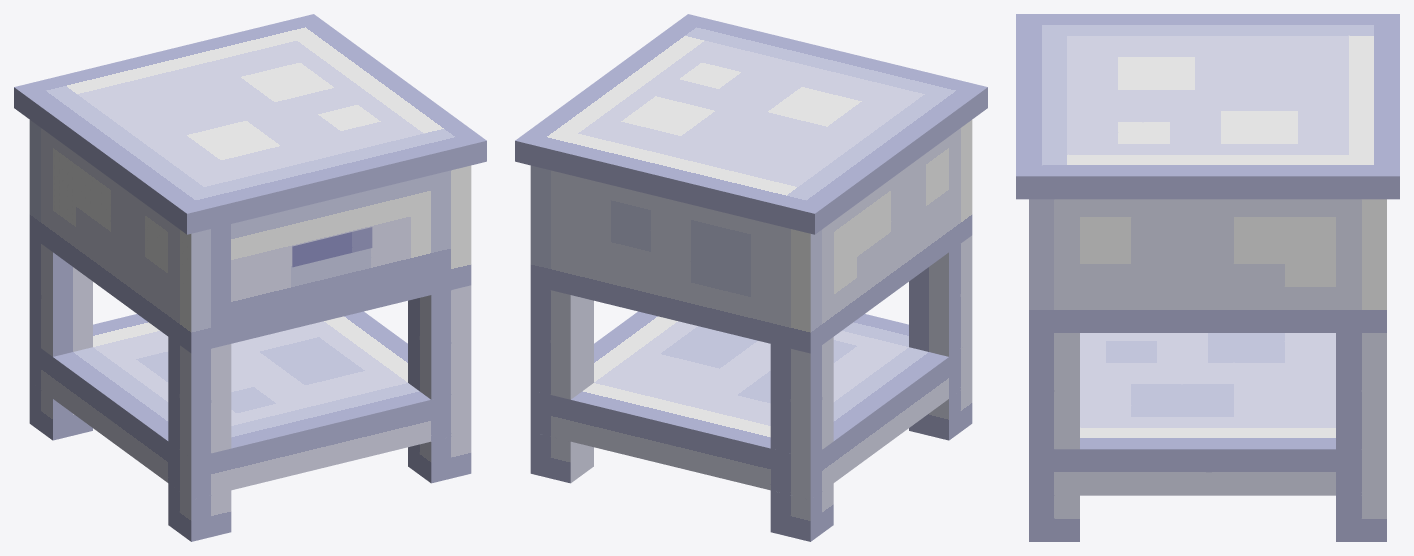
Rendered from nightstand_77.obj.
3 views of the same model, side by side, from view 1: azimuth 30°, elevation 25°; view 2: azimuth 150°, elevation 25°; view 3: azimuth 270°, elevation 25° (orthographic). The views are drawn at different scales.
Bounding box in the file's own units: 0.9375 × 1 × 0.9375.
Materials: 1 (1 with a texture image).
